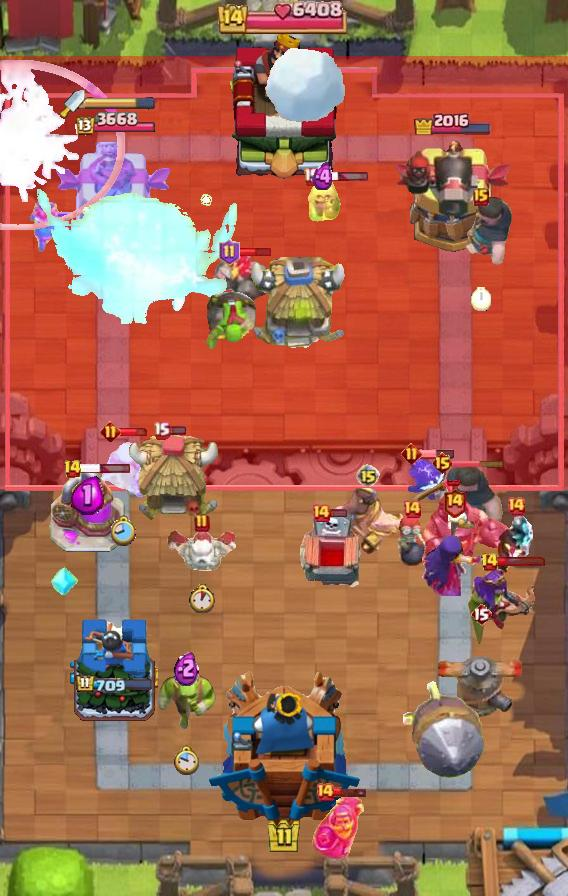axe: (422, 508, 486, 596)
bar: (55, 142, 173, 256)
bar-level: (203, 290, 257, 352)
barbarian-evolution: (0, 59, 124, 231)
barbarian-hut: (464, 563, 544, 651)
bat-evolution: (304, 174, 342, 222)
bowler: (97, 431, 151, 501)
clock: (217, 0, 351, 34)
dark-prince: (436, 631, 526, 717)
electro-spirit: (72, 476, 105, 515), (174, 650, 199, 687), (313, 162, 336, 192)
elixir: (188, 584, 217, 614), (111, 515, 137, 547), (173, 744, 199, 775), (471, 287, 491, 311)
elixir-golem-mid: (297, 510, 367, 596)
emote: (317, 171, 369, 182), (79, 462, 131, 473), (496, 556, 546, 567), (451, 459, 505, 469), (419, 448, 455, 460), (332, 786, 368, 798), (238, 246, 273, 258), (118, 427, 150, 437), (168, 425, 187, 436), (328, 508, 347, 518)
firecracker-evolution: (311, 793, 364, 859)
flying-machine: (155, 674, 217, 730)
freeze: (329, 488, 407, 560)
hog-rider: (28, 200, 76, 254)
ice-golem: (395, 511, 429, 567)
king-tower: (207, 669, 361, 826), (222, 31, 346, 181)
king-tower-bar: (85, 97, 155, 111)
lumberjack: (493, 516, 539, 576)
mega-knight: (37, 176, 259, 350)
mini-pekka: (165, 526, 239, 576)
pad_2: (50, 564, 78, 598)
pekka: (48, 472, 126, 554)
prince: (248, 257, 350, 353), (128, 433, 222, 523)
queen-tower: (70, 616, 158, 731)
royal-guardian: (417, 480, 513, 570)
royal-hog: (410, 462, 506, 528), (447, 196, 515, 272)
selected: (73, 112, 155, 138), (413, 110, 493, 135), (74, 673, 154, 695)
spear-goblin: (407, 458, 449, 504)
text: (442, 487, 467, 518), (430, 451, 454, 475), (356, 464, 380, 488), (220, 239, 241, 265), (470, 602, 492, 626), (99, 421, 121, 443), (401, 443, 422, 464), (506, 496, 526, 516), (402, 499, 422, 519), (311, 503, 331, 523), (480, 552, 500, 572), (315, 782, 335, 802), (63, 459, 82, 479), (304, 167, 321, 186), (153, 421, 170, 440), (194, 513, 210, 533), (473, 188, 489, 206)
tower-bar: (392, 138, 514, 256)
valkyrie-evolution: (213, 253, 277, 321)
wall-breaker: (264, 46, 348, 124)
x-bow: (395, 680, 485, 779)
